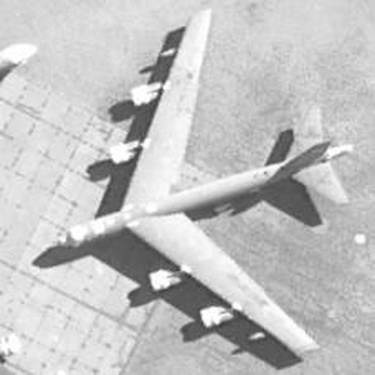airplane: (39, 5, 363, 364)
